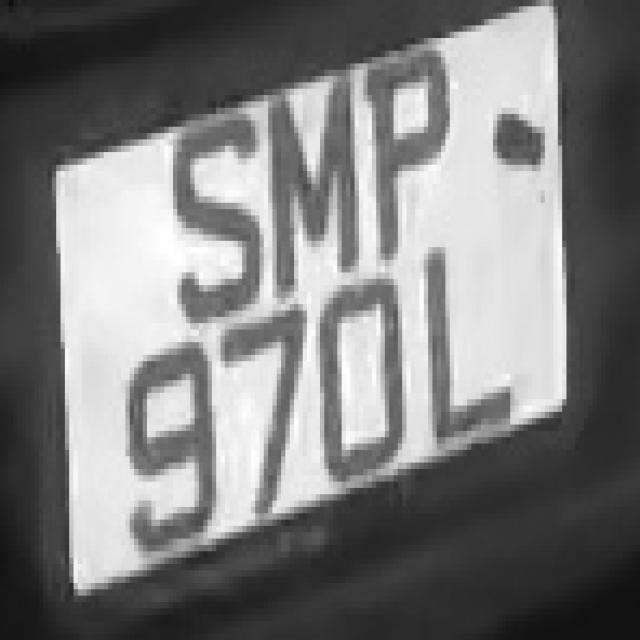0: (303, 285, 411, 507)
7: (216, 279, 316, 532)
9: (121, 329, 229, 564)
L: (393, 228, 528, 482)
M: (250, 38, 368, 311)
P: (368, 19, 458, 260)
S: (156, 76, 264, 342)
